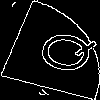Q: (24, 24, 100, 78)
